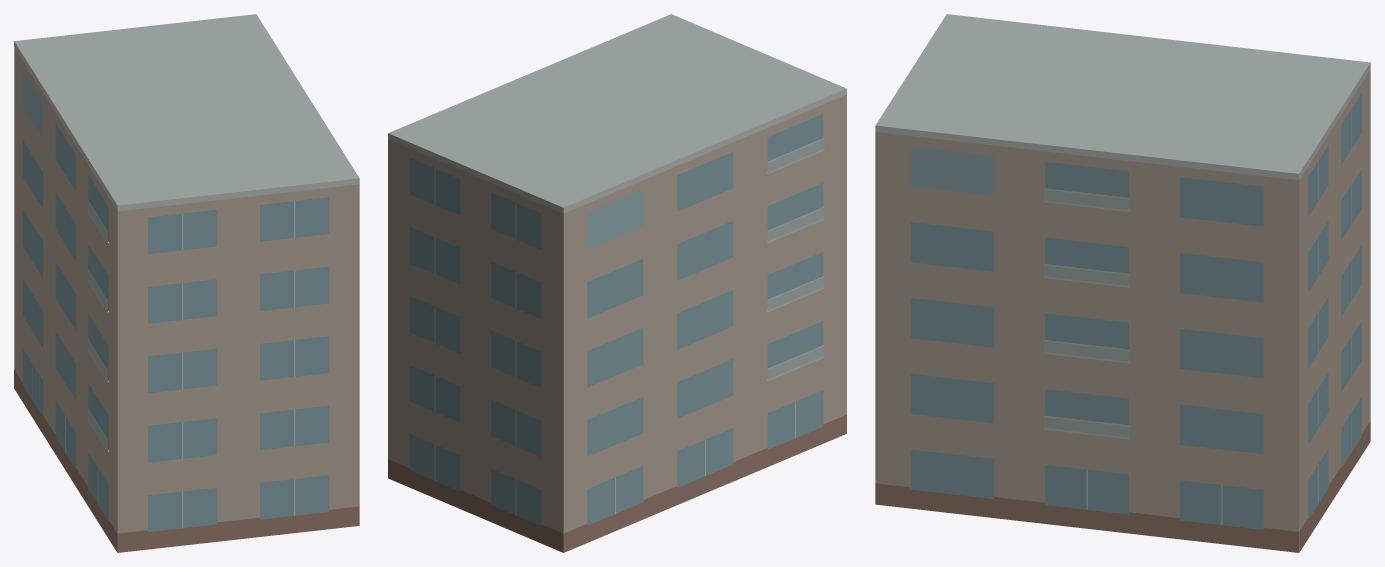
Rendered from survey-upis-32756406.glb.
The picture shows the model from 3 angles, left to right: view 1: azimuth 30°, elevation 25°; view 2: azimuth 150°, elevation 25°; view 3: azimuth 270°, elevation 25°; orthographic projection. The views are drawn at different scales.
Parts seen in each view (by area): view 1: survey-upis-32756406.tmp; view 2: survey-upis-32756406.tmp; view 3: survey-upis-32756406.tmp.
Part boxes in pixels (x1,y1,x2,y2): survey-upis-32756406.tmp: [14, 14, 359, 552]; survey-upis-32756406.tmp: [388, 14, 846, 552]; survey-upis-32756406.tmp: [875, 14, 1370, 552].
Bounding box in the file's own units: 12.95 × 14.3 × 16.95.
